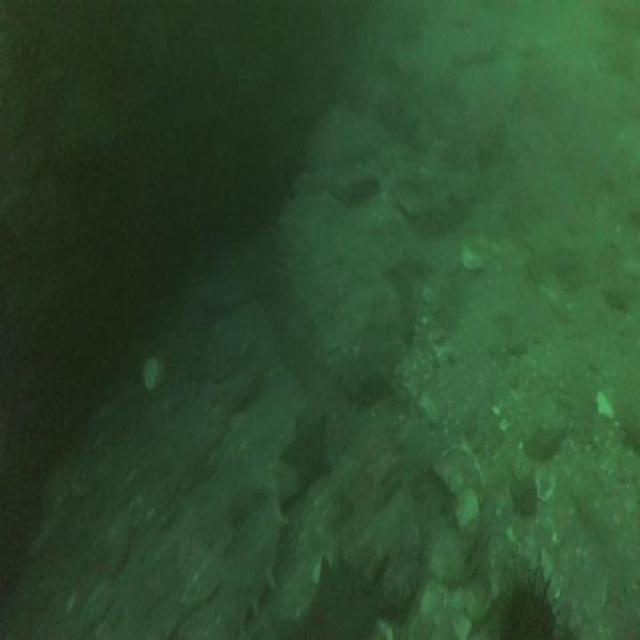echinus: (502, 577, 558, 640)
holothurian: (205, 493, 287, 635)
starfish: (282, 409, 331, 490)
